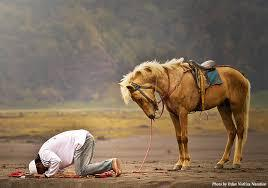sujud: (28, 128, 122, 179)
